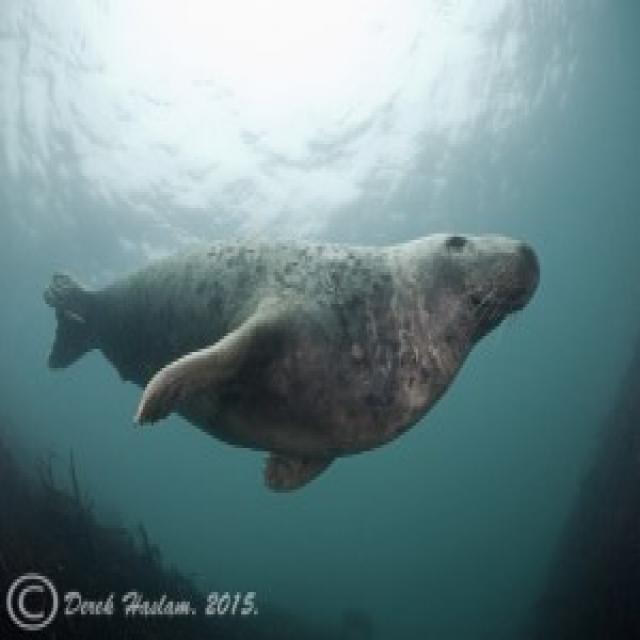Seal: (32, 215, 546, 508)
